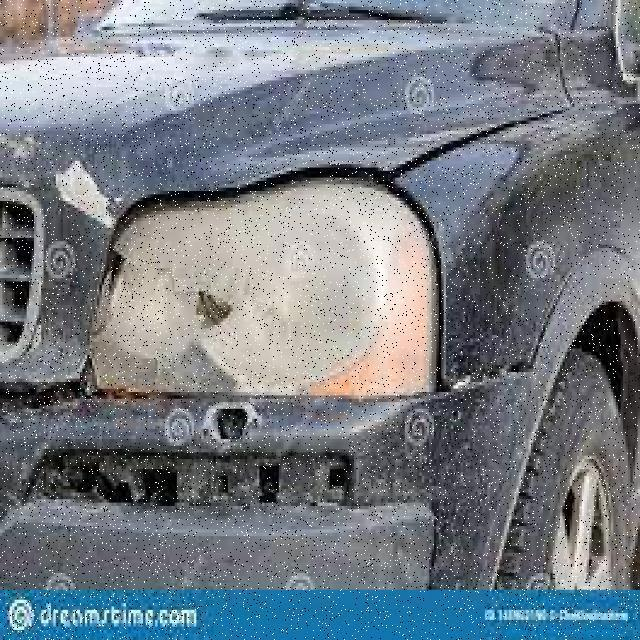Headlight-Damage: (87, 171, 468, 439)
front-bumper-dent: (0, 352, 577, 590)
